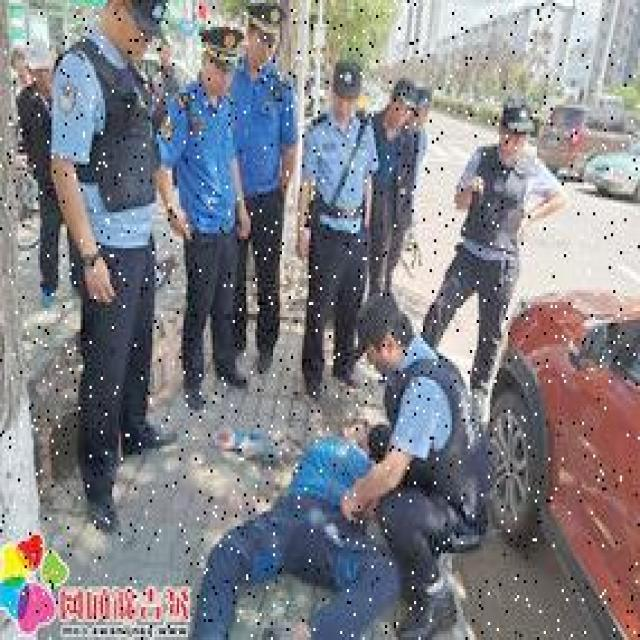fall: (197, 416, 385, 637)
